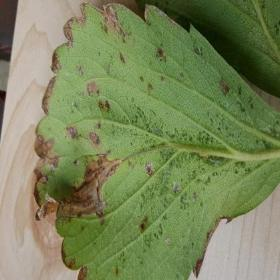Angular Leafspot: (32, 1, 279, 279)
